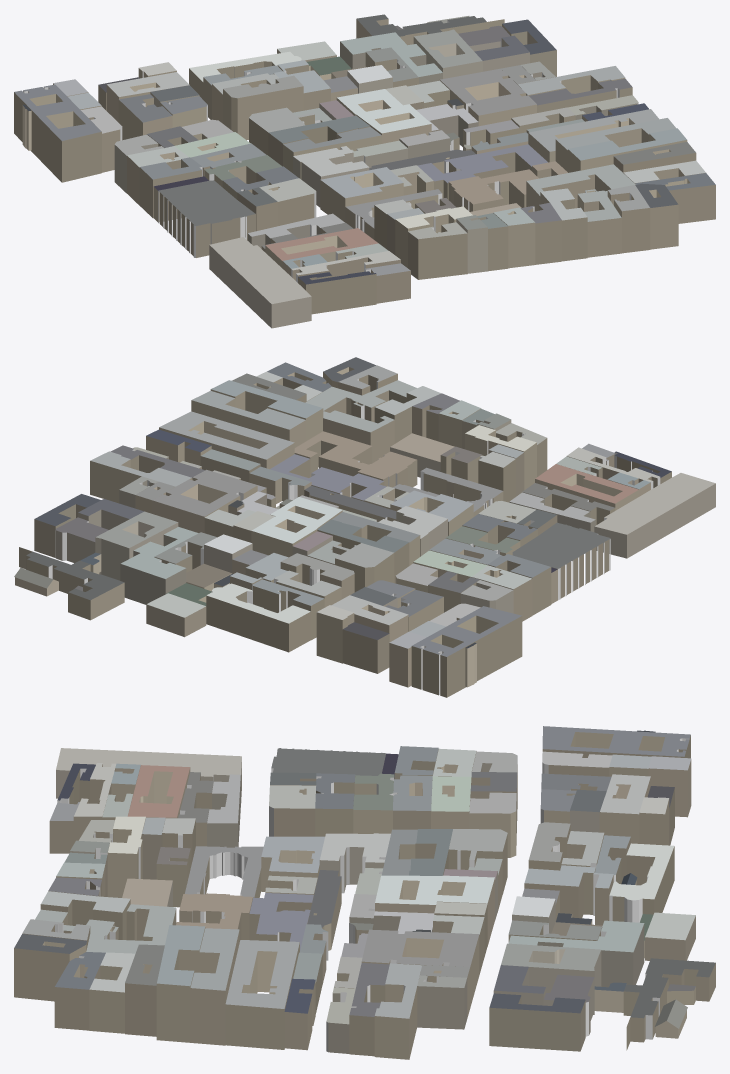
3 views of the same model, one above another, from view 1: azimuth 30°, elevation 25°; view 2: azimuth 150°, elevation 25°; view 3: azimuth 270°, elevation 25° (orthographic). The views are drawn at different scales.
Parts seen in each view (by area): view 1: tuile; view 2: tuile; view 3: tuile.
Part boxes in pixels (x1,y1,x2,y2): tuile: (14, 14, 715, 328); tuile: (14, 357, 715, 697); tuile: (14, 726, 715, 1059).
Size of the model in its own units: 266 by 26.07 by 275.
